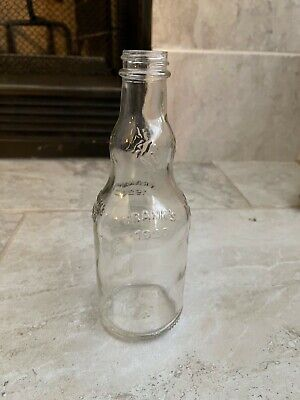glass_bottle: (81, 39, 201, 347)
